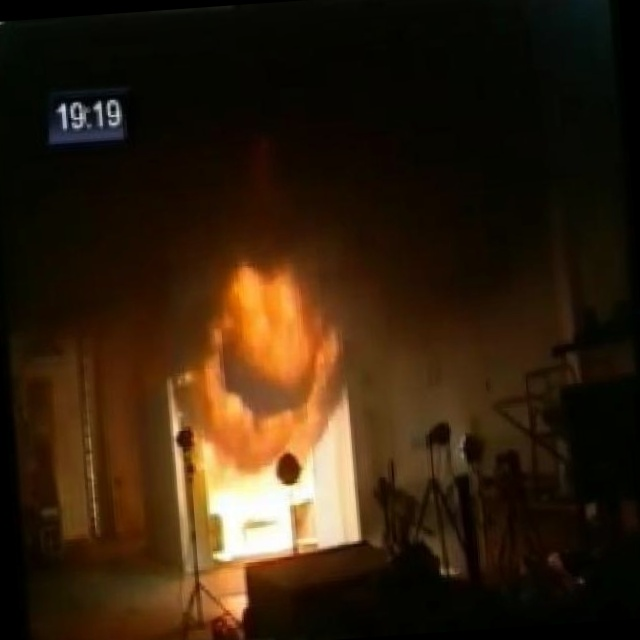fire: (180, 242, 365, 453)
